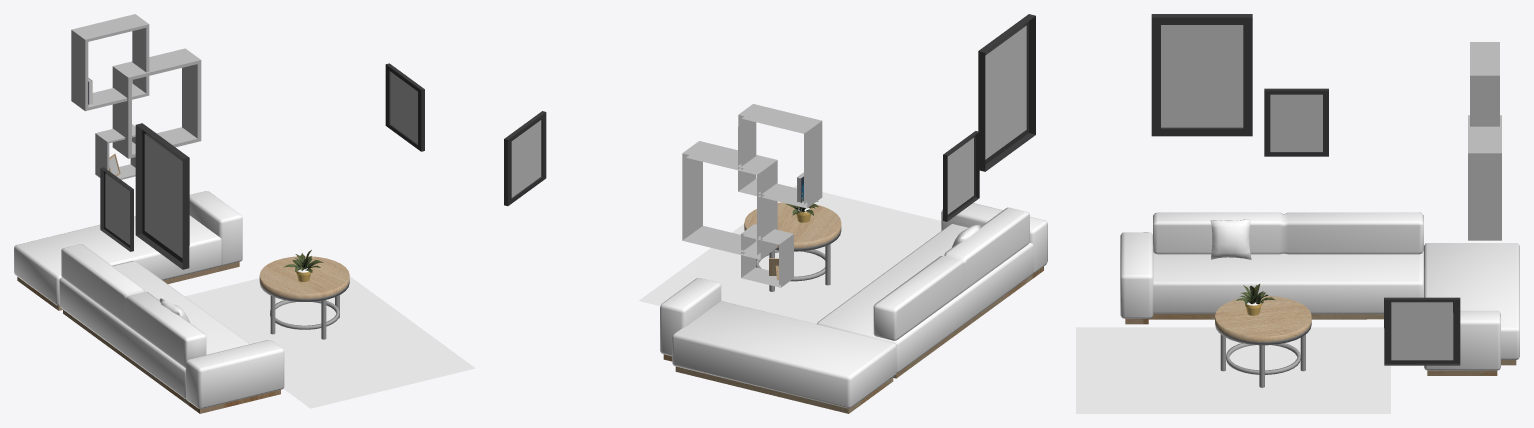
The model's file is LivingRoomClean.fbx.
The picture shows the model from 3 angles, left to right: view 1: azimuth 30°, elevation 25°; view 2: azimuth 150°, elevation 25°; view 3: azimuth 270°, elevation 25°; orthographic projection. The views are drawn at different scales.
Parts seen in each view (by area): view 1: Big_SofaClean, Carpet_DiningClean, ShelfClean, Corner_SofaClean, Poster_FrameClean, Coffee_TableClean, Poster_Frame__2_Clean, Poster_Frame__1_Clean, Plant_02Clean; view 2: Corner_SofaClean, Big_SofaClean, Carpet_DiningClean, ShelfClean, Poster_FrameClean, Coffee_TableClean, Poster_Frame__2_Clean, Poster_Frame__1_Clean; view 3: Big_SofaClean, Carpet_DiningClean, Poster_FrameClean, Corner_SofaClean, ShelfClean, Coffee_TableClean, Poster_Frame__2_Clean, Poster_Frame__1_Clean, Pillow__4_Clean, Plant_02Clean.
Boxes of the visible parts, x1,y1,x2,y2 form: Big_SofaClean: [59, 244, 284, 413]; Carpet_DiningClean: [185, 276, 475, 408]; ShelfClean: [71, 14, 201, 179]; Corner_SofaClean: [14, 191, 242, 310]; Poster_FrameClean: [135, 123, 189, 269]; Coffee_TableClean: [259, 256, 349, 339]; Poster_Frame__2_Clean: [385, 63, 424, 151]; Poster_Frame__1_Clean: [100, 167, 133, 251]; Plant_02Clean: [283, 250, 323, 281]; Corner_SofaClean: [660, 278, 896, 413]; Big_SofaClean: [817, 203, 1047, 378]; Carpet_DiningClean: [639, 185, 941, 323]; ShelfClean: [682, 104, 822, 287]; Poster_FrameClean: [978, 14, 1035, 171]; Coffee_TableClean: [744, 202, 841, 291]; Poster_Frame__2_Clean: [504, 111, 546, 205]; Poster_Frame__1_Clean: [943, 131, 979, 221]; Big_SofaClean: [1120, 212, 1423, 324]; Carpet_DiningClean: [1076, 327, 1390, 413]; Poster_FrameClean: [1151, 14, 1252, 136]; Corner_SofaClean: [1424, 243, 1519, 375]; ShelfClean: [1468, 42, 1501, 240]; Coffee_TableClean: [1215, 296, 1311, 387]; Poster_Frame__2_Clean: [1384, 297, 1460, 365]; Poster_Frame__1_Clean: [1264, 88, 1328, 156]; Pillow__4_Clean: [1210, 219, 1251, 259]; Plant_02Clean: [1236, 284, 1275, 315].
Bounding box in the file's own units: 616 × 415 × 629.
